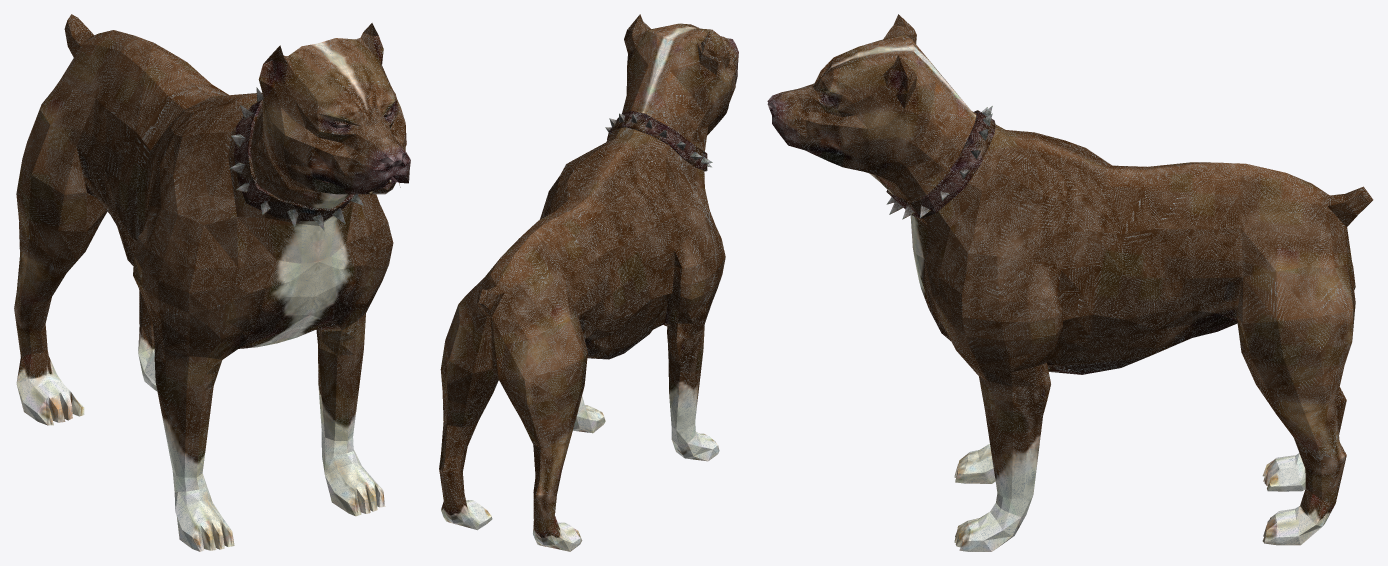
Rendered from pitBull.fbx.
3 views of the same model, side by side, from view 1: azimuth 30°, elevation 25°; view 2: azimuth 150°, elevation 25°; view 3: azimuth 270°, elevation 25° (orthographic). The views are drawn at different scales.
Parts seen in each view (by area): view 1: Mesh1; view 2: Mesh1; view 3: Mesh1.
Boxes of the visible parts, x1,y1,x2,y2 form: Mesh1: (14, 14, 410, 551); Mesh1: (439, 14, 738, 551); Mesh1: (767, 14, 1373, 551).
Size of the model in its own units: 0.00378 by 0.00835 by 0.00966.
Materials: 2 (1 with a texture image).
